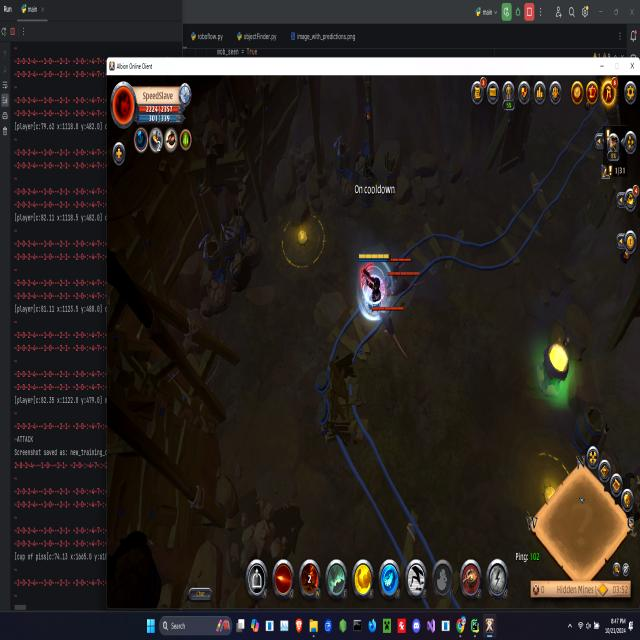fiber: (535, 329, 573, 403)
ore: (367, 292, 414, 368), (379, 245, 418, 300)
red: (357, 252, 394, 313)
